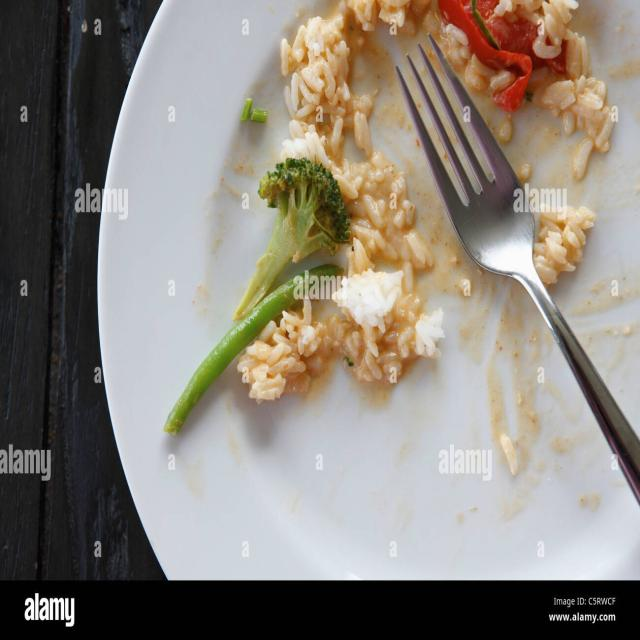Green veg: (163, 158, 350, 434)
Rice: (238, 0, 444, 400), (478, 0, 616, 179), (534, 207, 594, 284)
